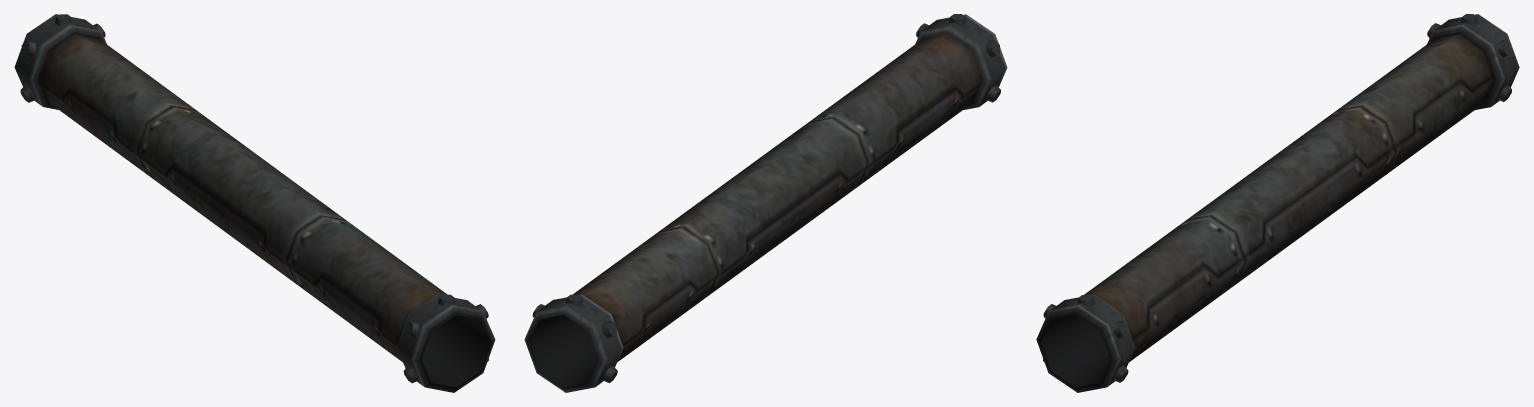
File: SM_EN_1002_guandao08.FBX
The picture shows the model from 3 angles, left to right: view 1: azimuth 30°, elevation 25°; view 2: azimuth 150°, elevation 25°; view 3: azimuth 330°, elevation 25°; orthographic projection.
Parts seen in each view (by area): view 1: SM_EN_1002_guandao08; view 2: SM_EN_1002_guandao08; view 3: SM_EN_1002_guandao08.
Part boxes in pixels (x1,y1,x2,y2): SM_EN_1002_guandao08: (14,14,495,392); SM_EN_1002_guandao08: (524,14,1007,392); SM_EN_1002_guandao08: (1036,14,1519,392).
Bounding box in the file's own units: 20.19 × 20.68 × 169.
